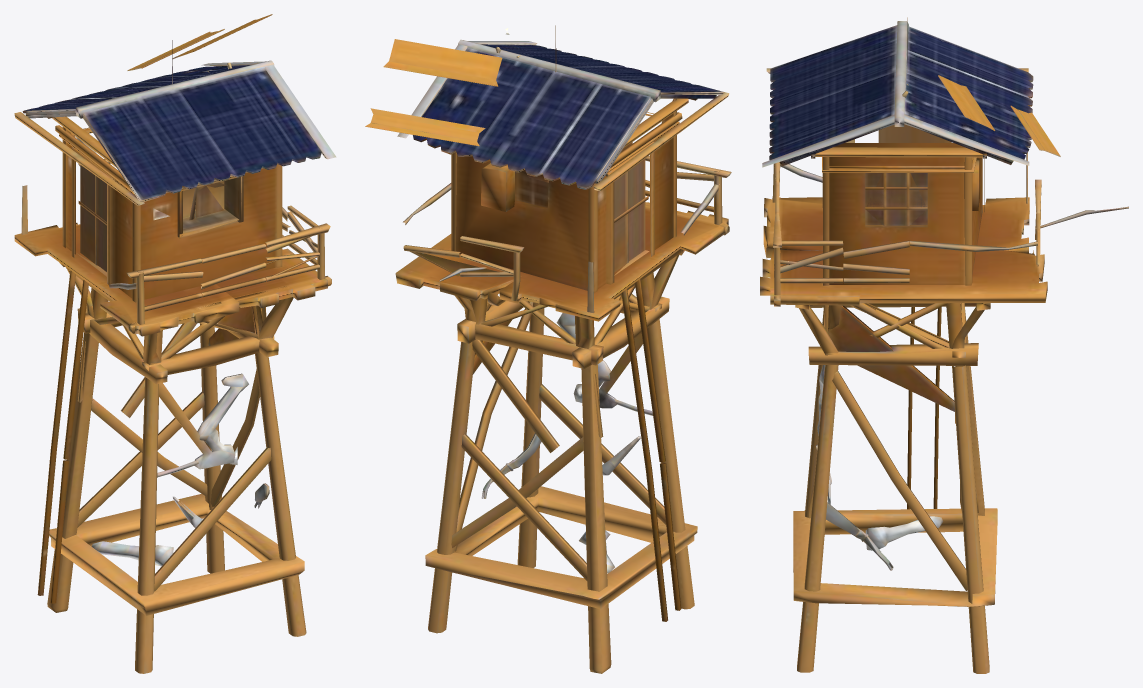
The model's file is watchtower.glb.
The picture shows the model from 3 angles, left to right: view 1: azimuth 30°, elevation 25°; view 2: azimuth 150°, elevation 25°; view 3: azimuth 270°, elevation 25°; orthographic projection. The views are drawn at different scales.
Parts seen in each view (by area): view 1: Body; view 2: Body; view 3: Body.
Part boxes in pixels (box(x1,y1,x2,y2)): Body: box(14, 14, 336, 673); Body: box(365, 25, 731, 673); Body: box(760, 17, 1128, 673).
Bounding box in the file's own units: 4.9 × 11.05 × 6.
Materials: 3 (3 with a texture image).
